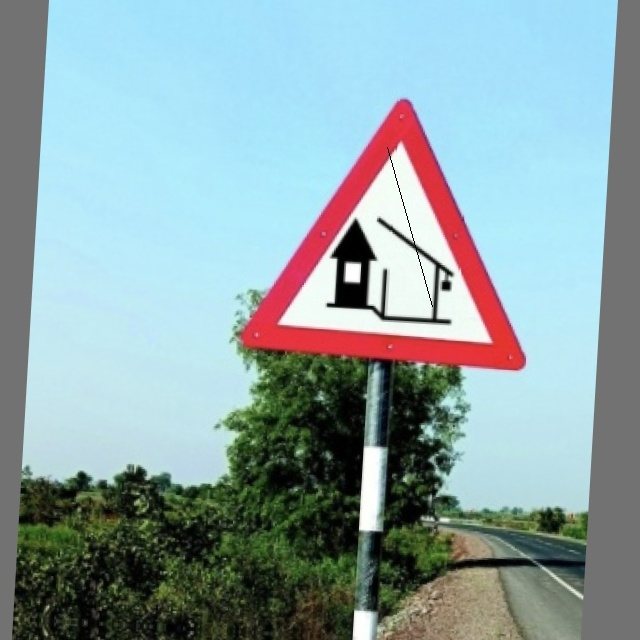Barrier_Ahead: (240, 92, 542, 376)
